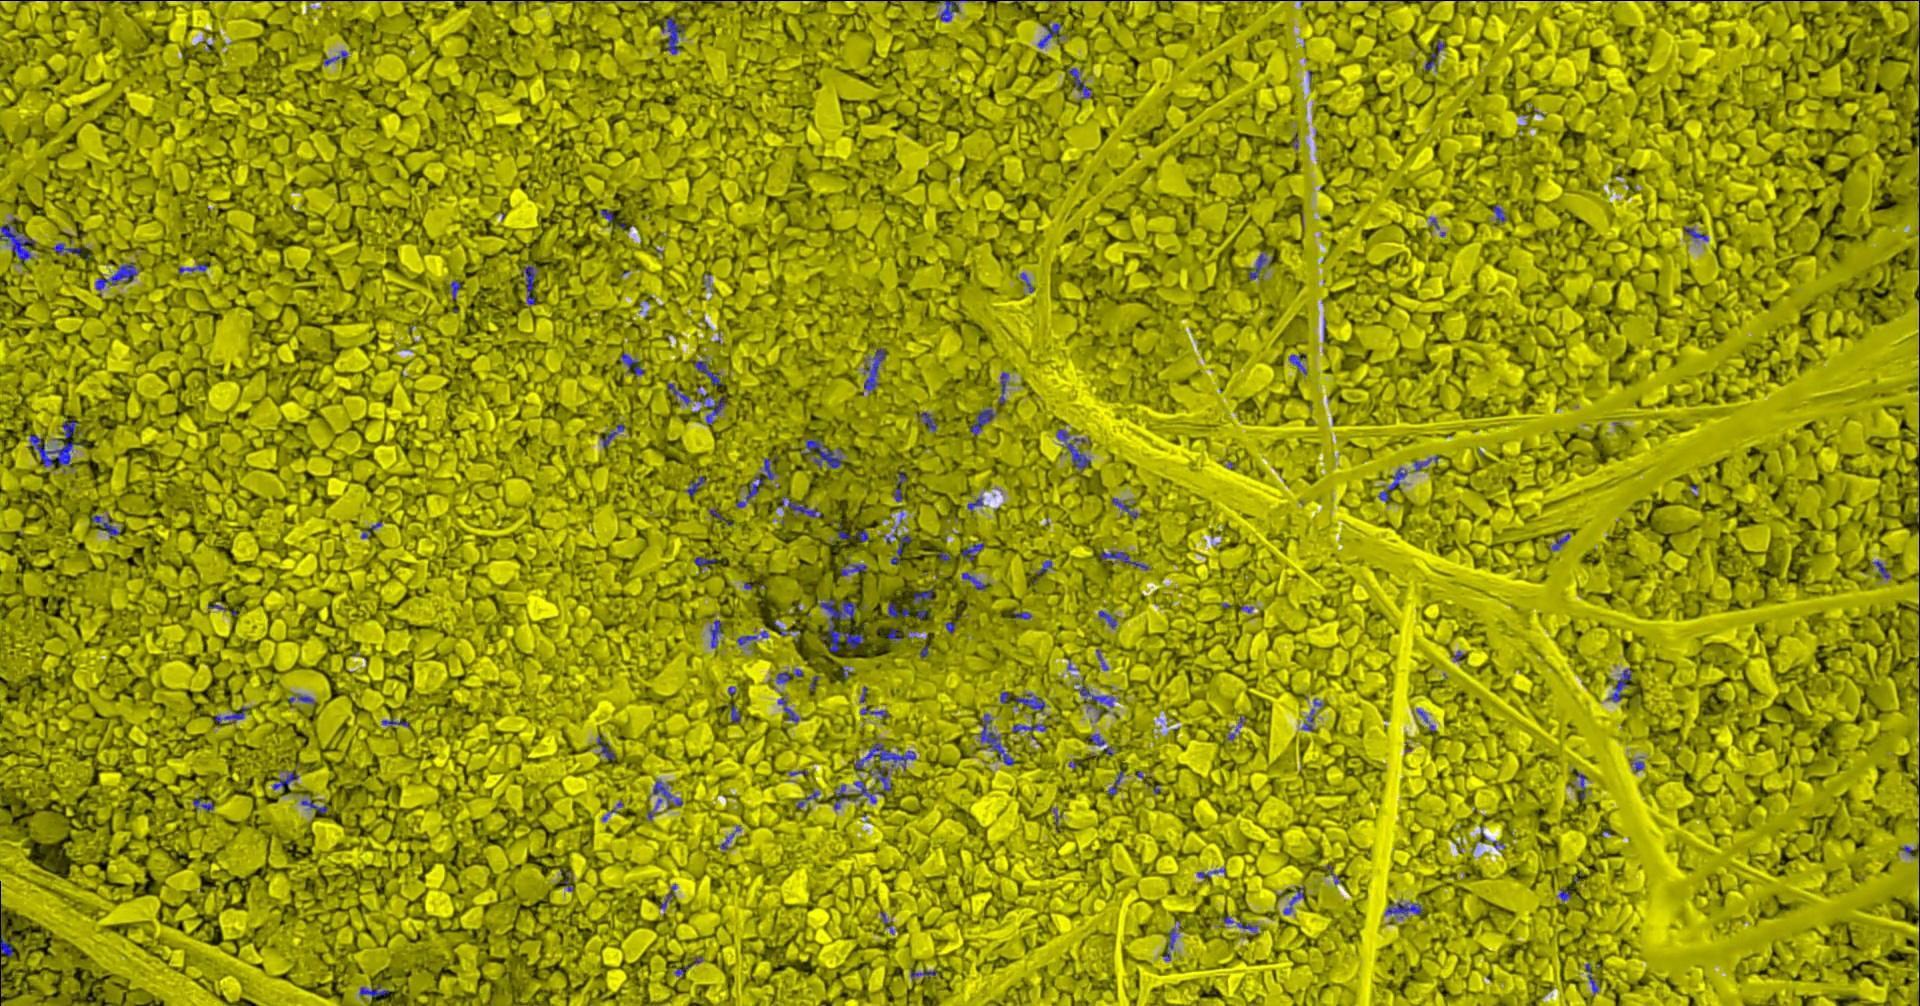ant: (27, 419, 83, 466), (819, 600, 863, 652), (979, 713, 1015, 765), (853, 741, 916, 770), (0, 217, 36, 264), (853, 766, 891, 803), (1055, 429, 1090, 470), (1076, 677, 1112, 708), (95, 263, 137, 290), (803, 439, 841, 467), (1098, 550, 1148, 569), (863, 348, 885, 391), (660, 17, 684, 55), (735, 476, 764, 507), (698, 392, 725, 424), (651, 780, 682, 807), (781, 498, 822, 517), (1608, 668, 1630, 701), (693, 359, 721, 386), (1162, 920, 1180, 960), (1068, 67, 1091, 98), (935, 0, 966, 22), (0, 904, 13, 956), (970, 408, 994, 434), (1423, 39, 1444, 70), (890, 533, 910, 564), (833, 784, 857, 809), (1011, 723, 1046, 739), (1248, 253, 1270, 279), (1086, 733, 1112, 754), (1283, 887, 1303, 915), (1384, 902, 1421, 917), (1015, 692, 1044, 711), (1037, 23, 1060, 47), (620, 352, 644, 375), (599, 423, 623, 446), (1111, 497, 1137, 518), (52, 238, 81, 255), (596, 733, 615, 760), (272, 770, 298, 789), (659, 883, 676, 913), (665, 384, 690, 404), (777, 697, 797, 721), (215, 708, 249, 721), (98, 514, 119, 536), (359, 984, 389, 1000), (523, 265, 535, 304), (960, 542, 984, 560), (961, 572, 985, 589), (684, 475, 705, 495), (1387, 467, 1406, 489), (893, 471, 907, 500), (1107, 768, 1123, 795), (1413, 455, 1437, 471), (997, 371, 1008, 405), (709, 619, 723, 647), (300, 799, 328, 813), (1288, 353, 1307, 373), (916, 412, 936, 431), (1585, 963, 1597, 993), (796, 790, 819, 807), (323, 50, 347, 65), (763, 455, 778, 479), (1870, 560, 1890, 578), (888, 601, 908, 617), (841, 563, 866, 575), (1098, 610, 1116, 627), (1550, 533, 1570, 550), (1683, 227, 1707, 240), (913, 588, 935, 602), (1196, 868, 1225, 878), (287, 694, 315, 704), (1575, 771, 1585, 799), (192, 798, 213, 810), (1236, 921, 1257, 934), (858, 708, 889, 716), (910, 969, 937, 979), (178, 263, 207, 272), (381, 718, 409, 727), (1302, 709, 1313, 730), (1492, 205, 1505, 222), (851, 528, 869, 541), (693, 556, 715, 567), (886, 627, 902, 641), (599, 210, 612, 226), (450, 279, 460, 300), (968, 497, 982, 511), (730, 705, 740, 723), (737, 635, 756, 644), (776, 671, 789, 683)
